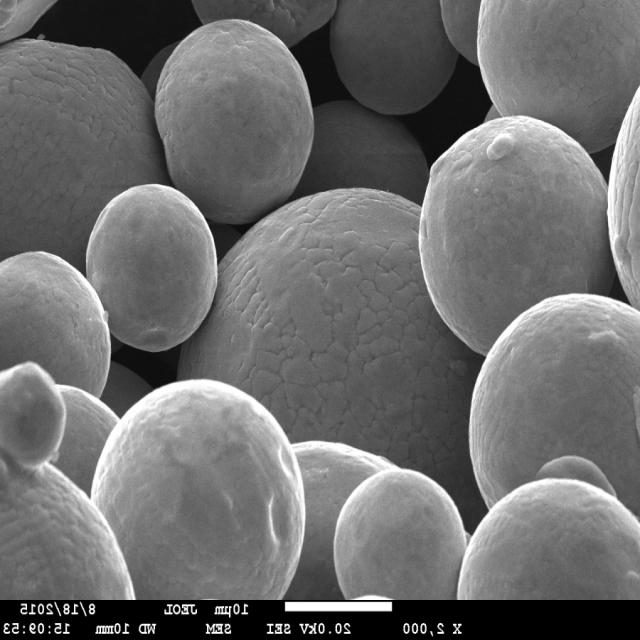cells: (180, 190, 471, 466), (91, 378, 304, 601), (419, 115, 612, 357), (0, 360, 137, 640), (468, 292, 640, 514), (0, 35, 155, 255), (155, 19, 311, 225), (479, 0, 640, 151), (456, 476, 640, 598), (86, 193, 217, 351), (334, 470, 465, 602), (0, 252, 112, 389), (329, 0, 461, 116), (0, 358, 67, 466)
